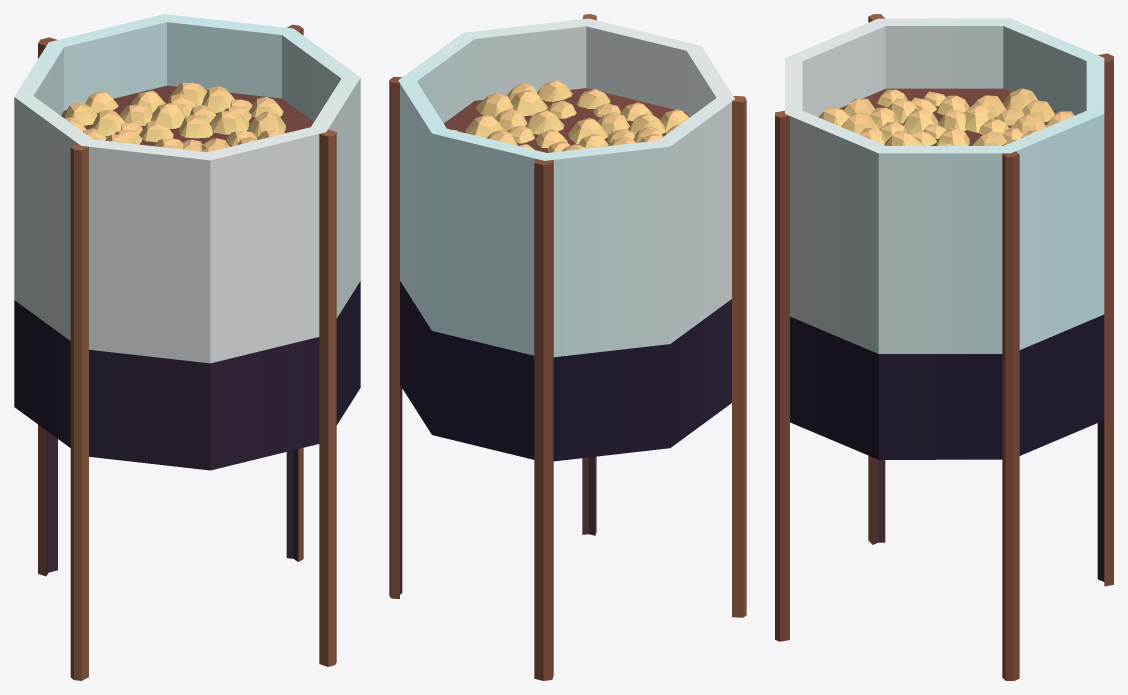
Rendered from Garden_UkeaPlanter01.fbx.
3 renders of one model, left to right at view 1: azimuth 30°, elevation 25°; view 2: azimuth 150°, elevation 25°; view 3: azimuth 270°, elevation 25°, orthographic. The views are drawn at different scales.
Parts seen in each view (by area): view 1: Plant Pot.002; view 2: Plant Pot.002; view 3: Plant Pot.002.
Boxes of the visible parts, box(x1,y1,x2,y2) form: Plant Pot.002: box(14, 14, 360, 680); Plant Pot.002: box(389, 14, 746, 680); Plant Pot.002: box(775, 14, 1113, 680).
Bounding box in the file's own units: 30.04 × 51.39 × 30.11.
